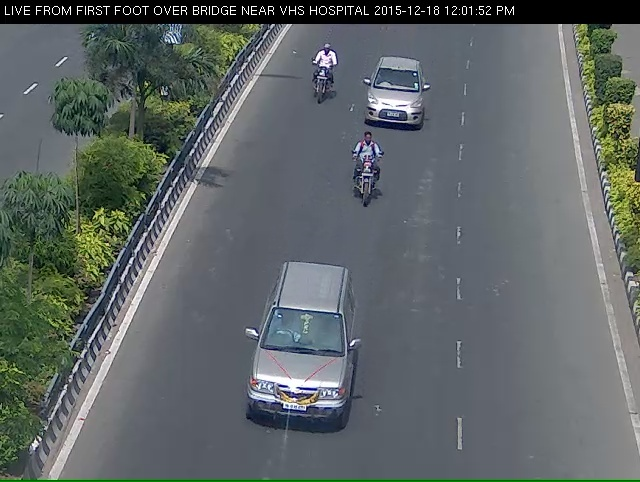Car: (238, 274, 355, 460), (355, 58, 435, 147)
Person: (343, 149, 391, 229), (301, 48, 330, 114)
